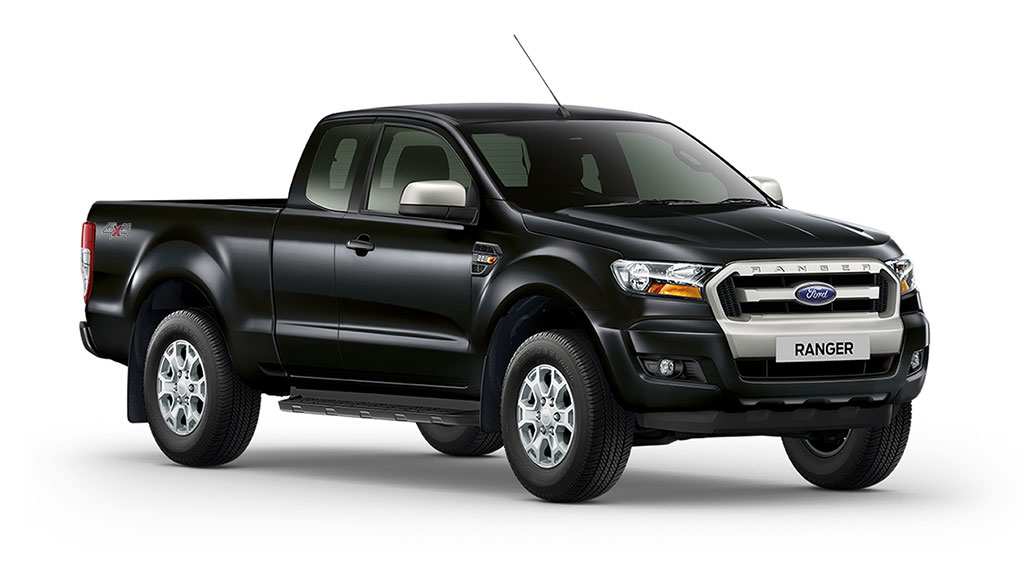pickup: (74, 98, 934, 505)
